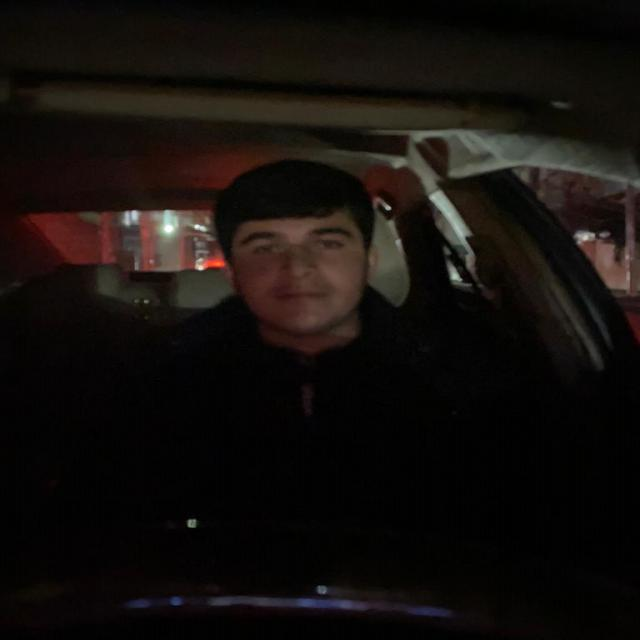person: (208, 150, 388, 346)
